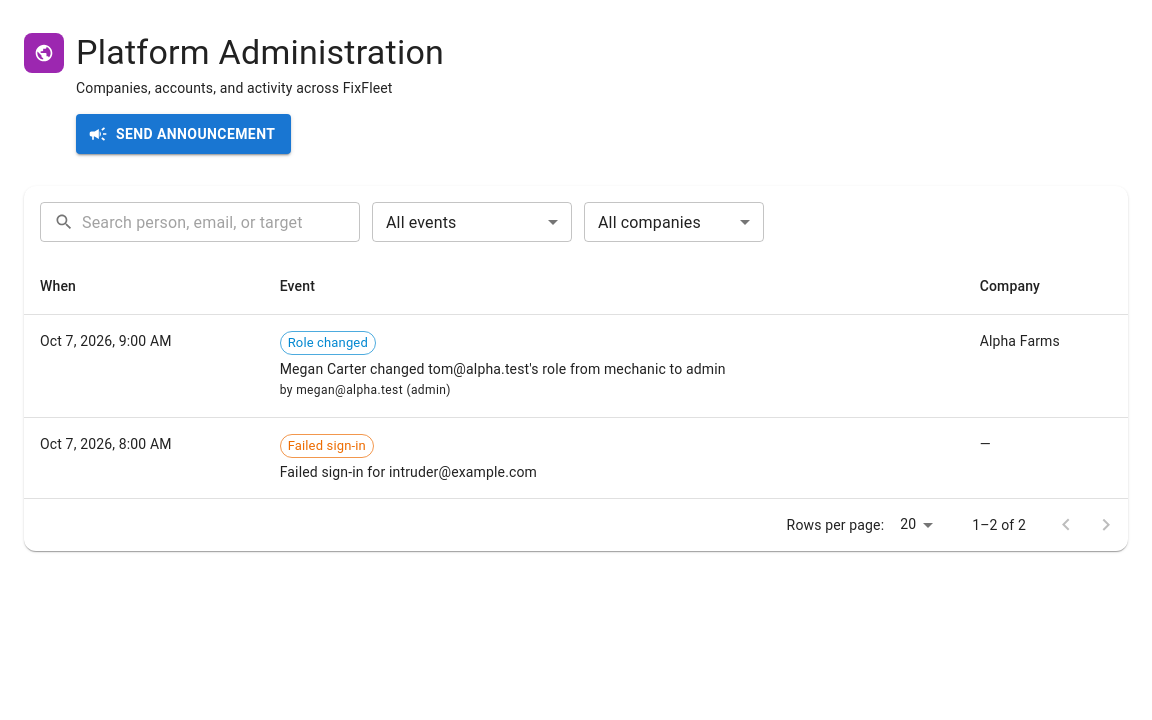
it: SuperAdminDashboard › opens audit event details when a row is clicked
The image size is (1152, 720).
Click the button with aria-label "View Failed sign-in event details" at (576, 458), box x1=24 y1=417 x2=1128 y2=498
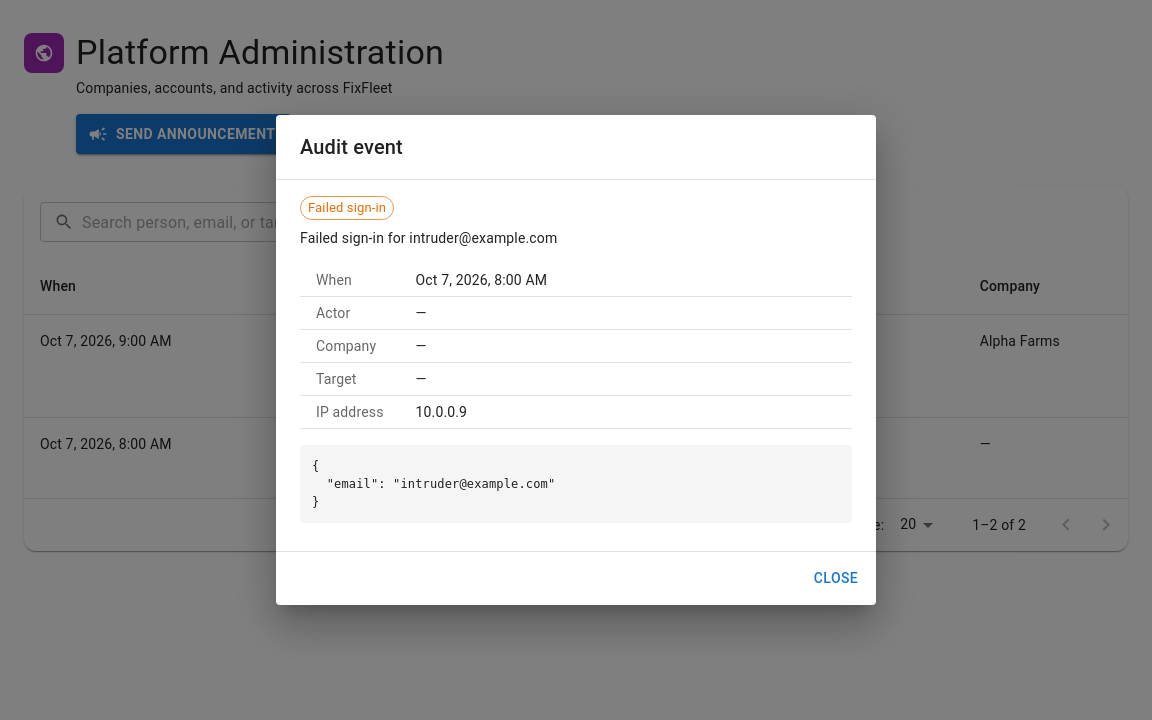
Now the text "10.0.0.9" is shown, box x1=400 y1=396 x2=852 y2=429
Now the text "{ \"email\": \"intruder@example.com\" }" is shown, box x1=300 y1=445 x2=852 y2=523
